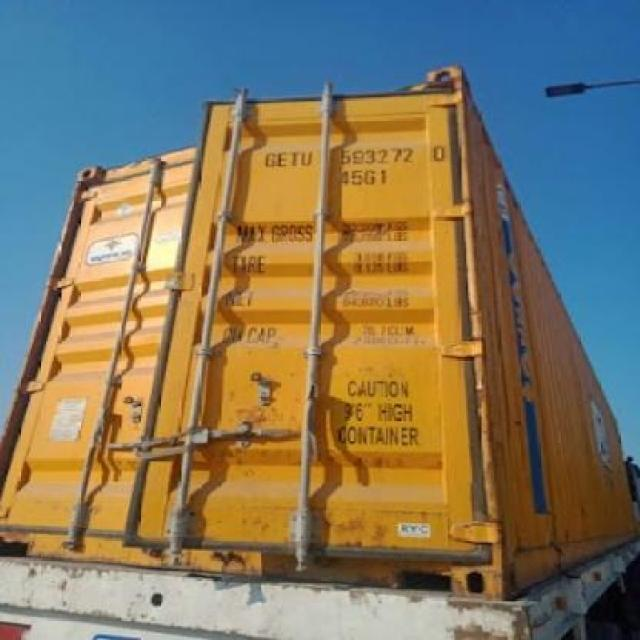ISO: (344, 168, 388, 185)
container_number: (262, 145, 439, 166)
